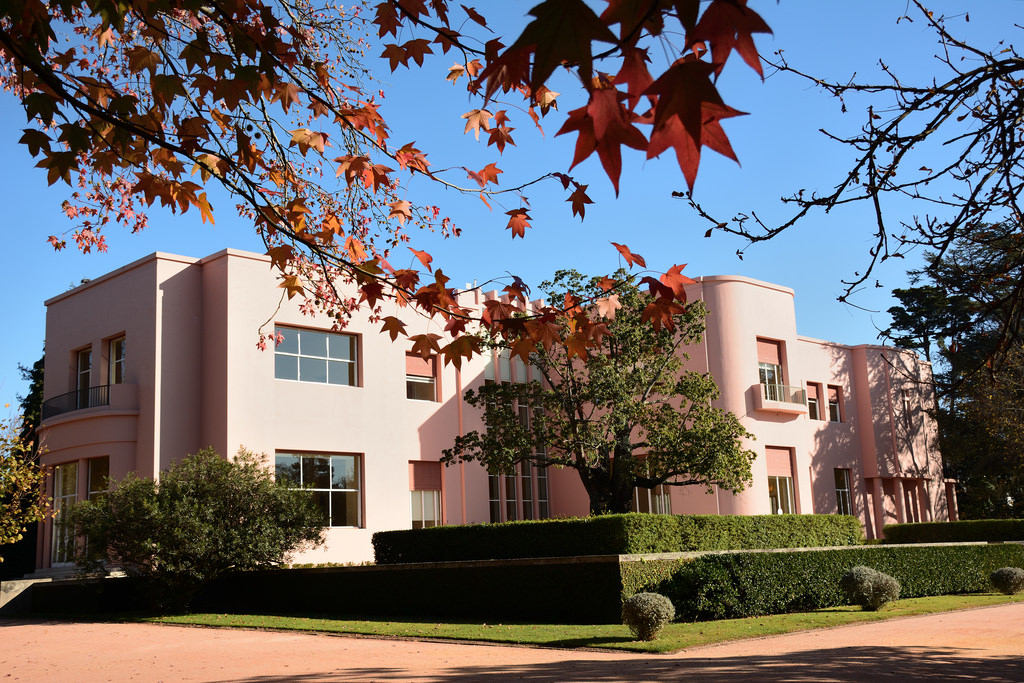serralves: (0, 246, 1023, 572)
